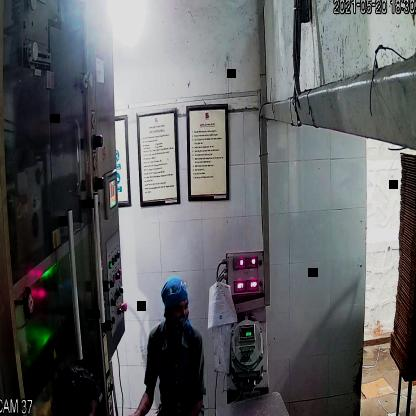no_goggles: (164, 296, 192, 320)
